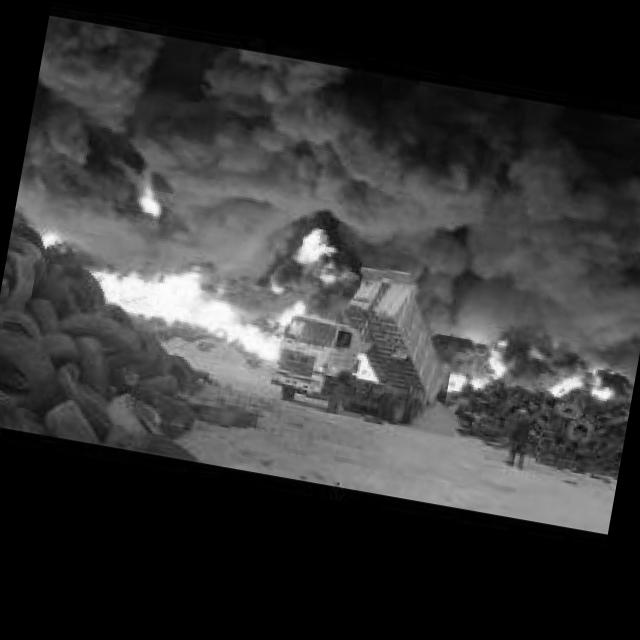fire: (88, 256, 308, 366), (270, 212, 354, 296), (440, 330, 510, 400), (547, 355, 615, 413), (127, 182, 167, 220), (27, 222, 66, 258)
